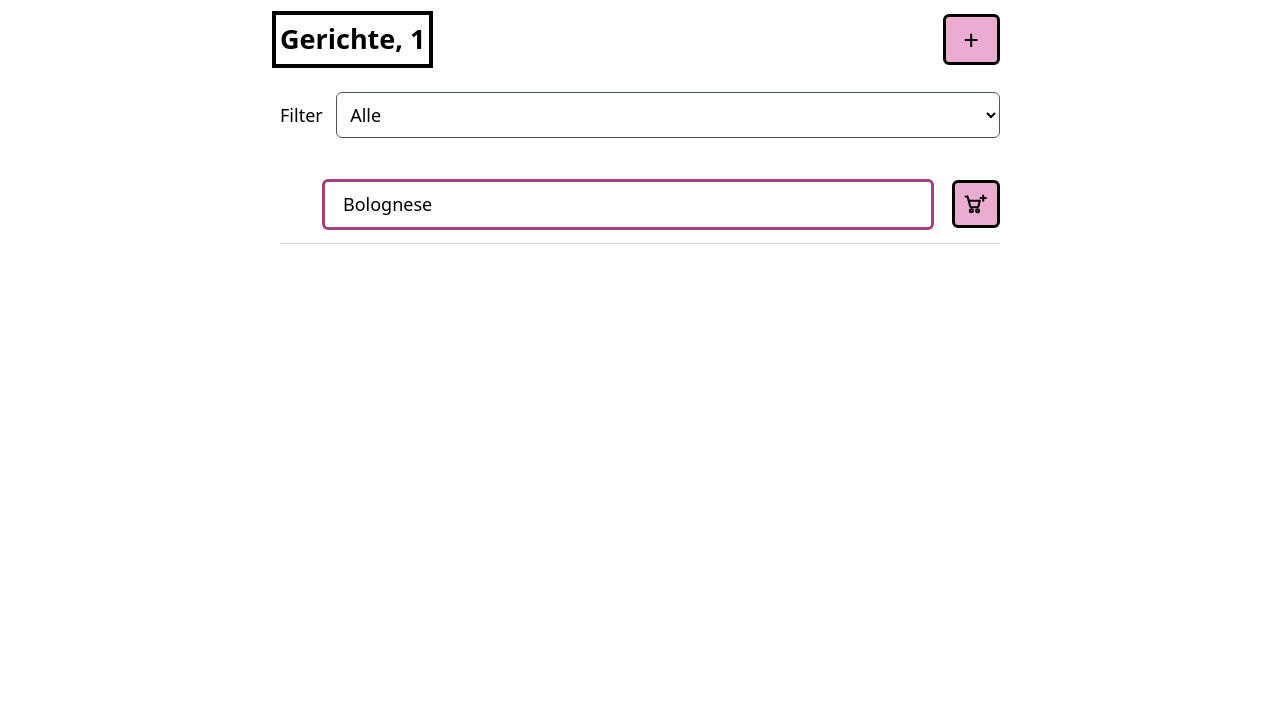
Test case: MealsArea › refuses a category the meal already carries
Click the button "Bolognese".
click(388, 204)  # box [322,178,934,230]
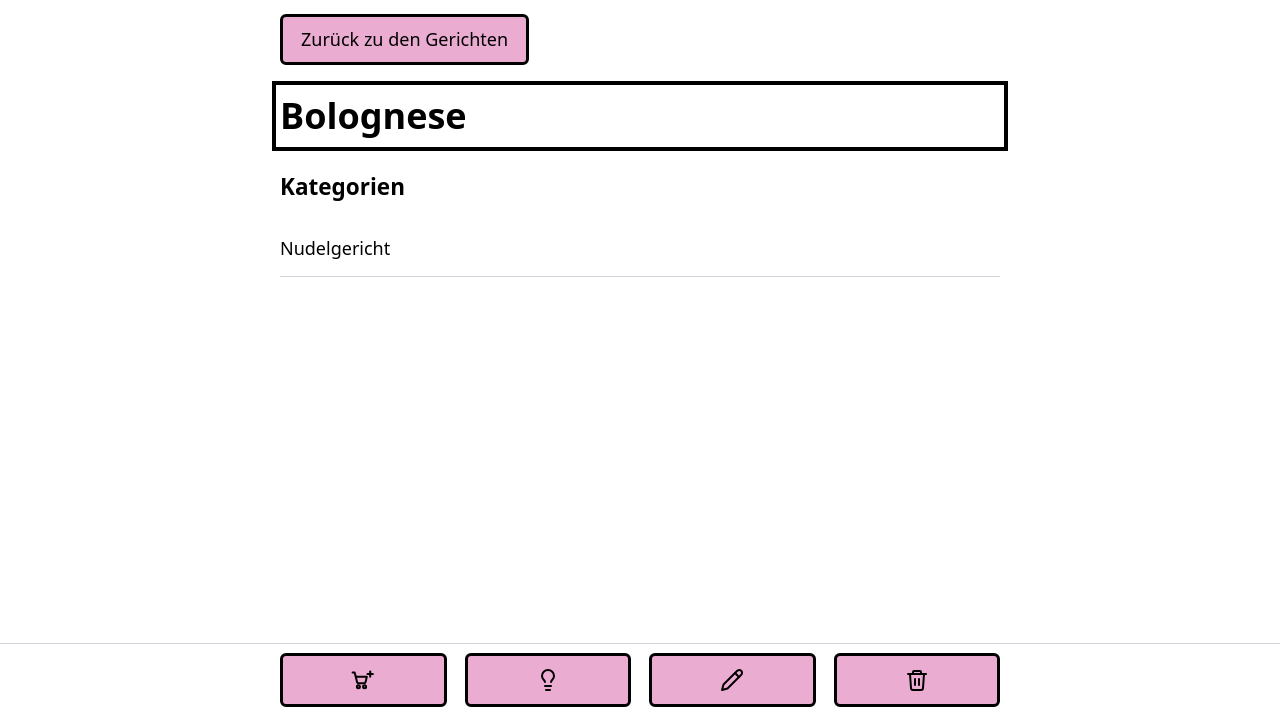
Click the button named "Bearbeiten".
click(732, 680)  # box [649,653,816,707]
(page scrolled)
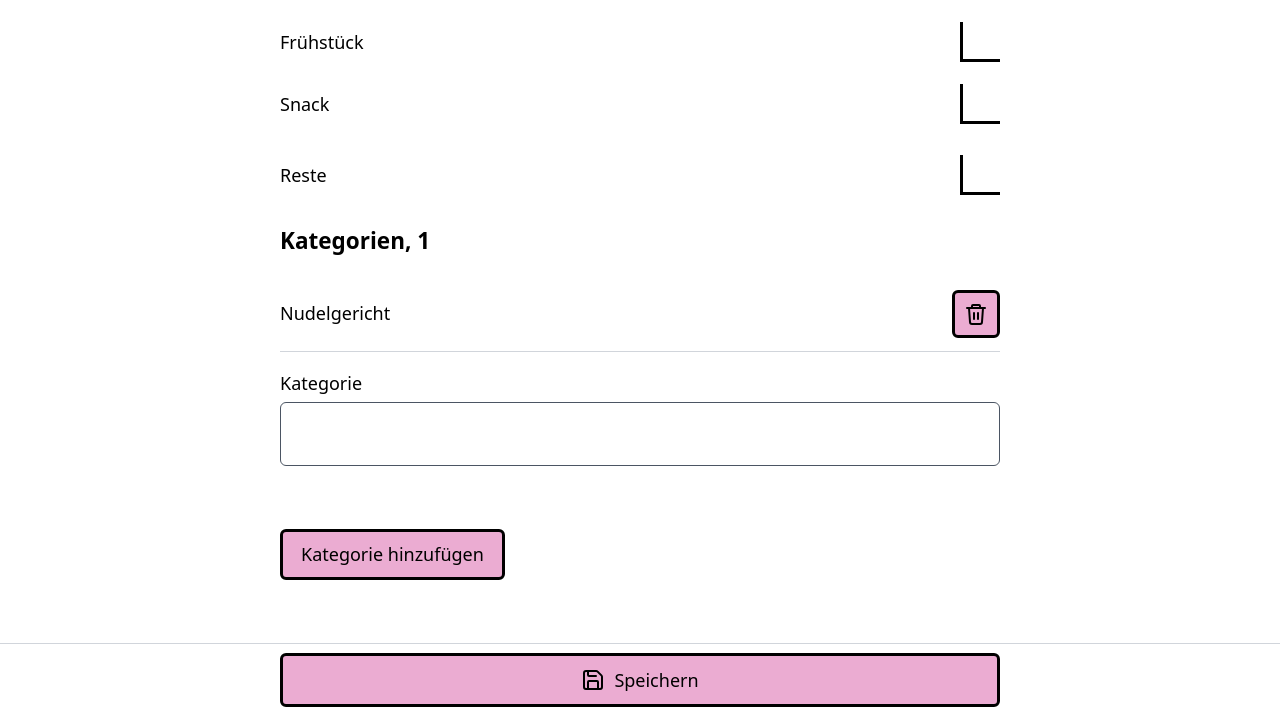
Type "nudelgericht" into the field labelled "Kategorie".
click(640, 434); type("nudelgericht")  # box [280,402,1000,466]
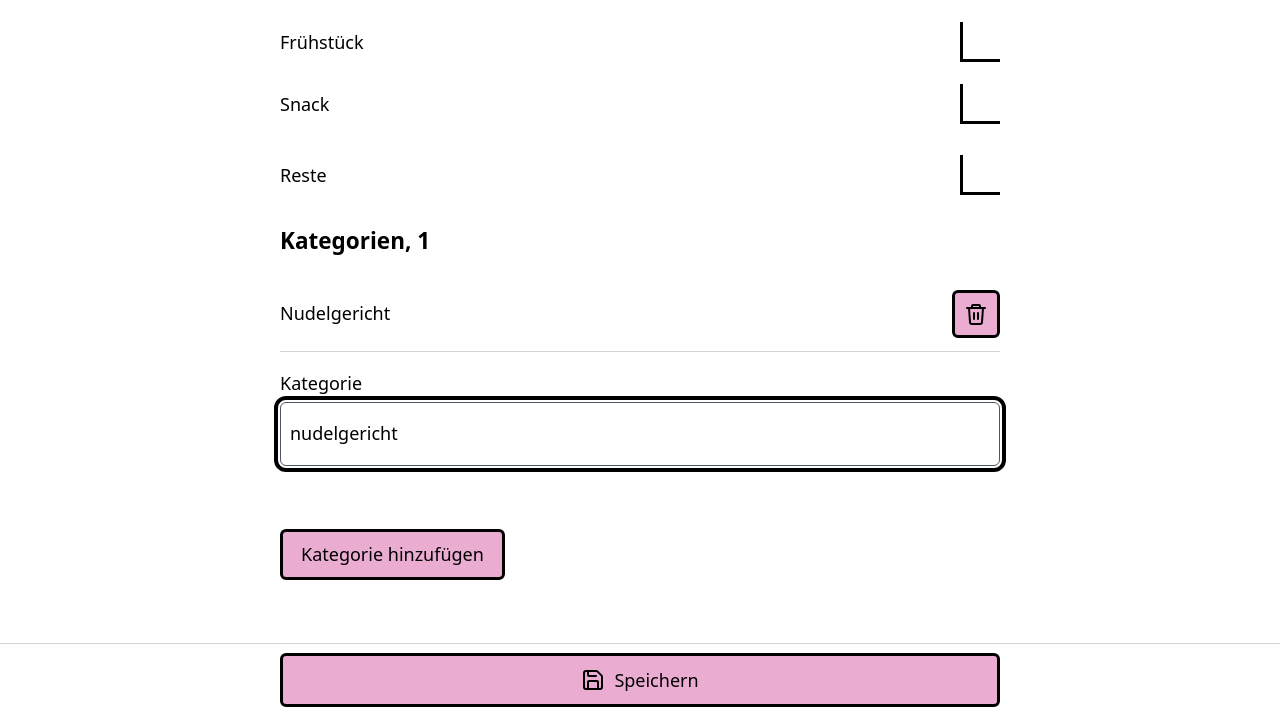
Click the button "Kategorie hinzufügen".
click(392, 554)  # box [280,529,505,580]
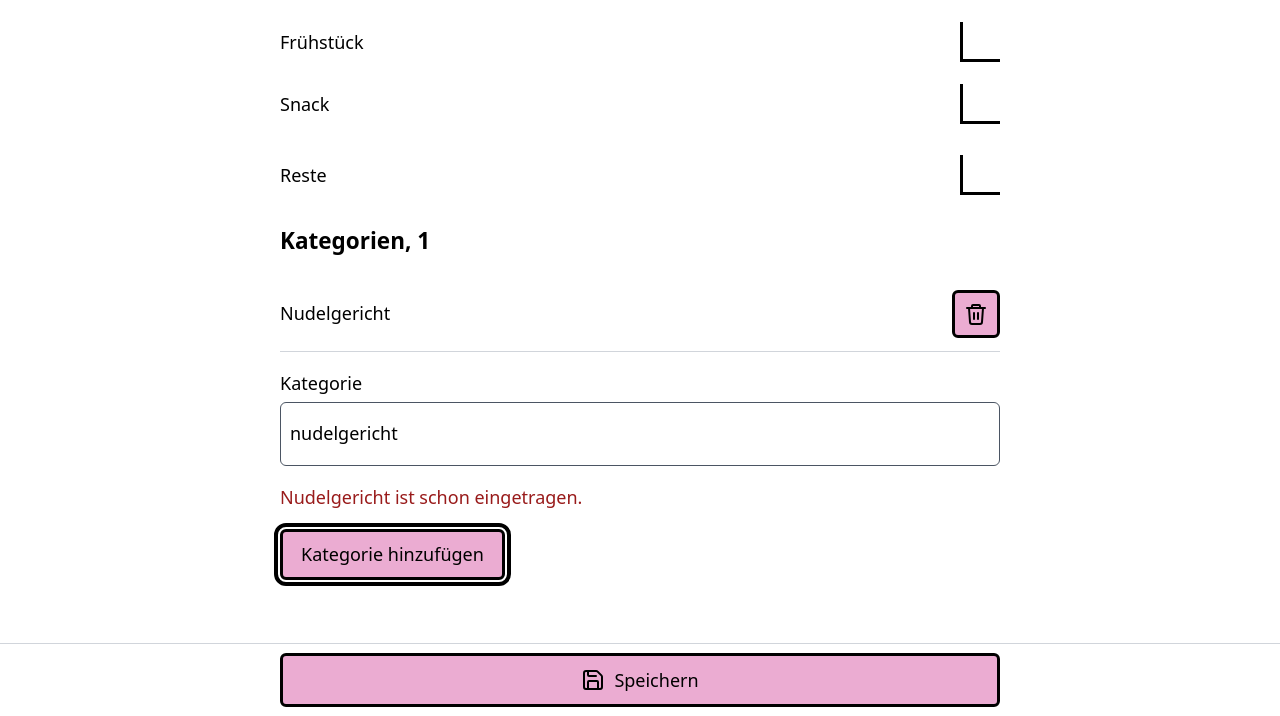
Result: the text "Nudelgericht ist schon eingetragen." is shown at [280,485,582,509]
